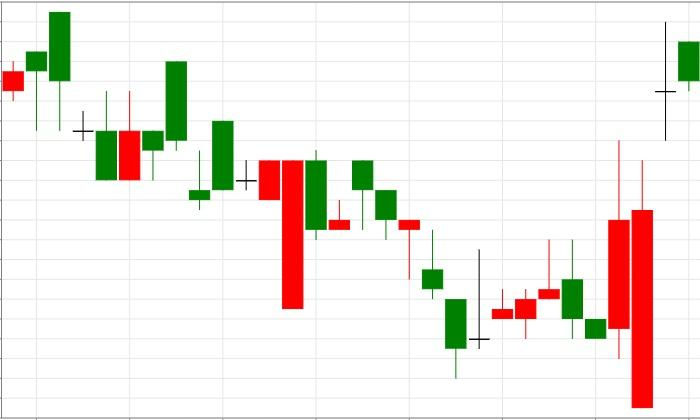inverse_hammer_rise: (351, 159, 443, 299)
